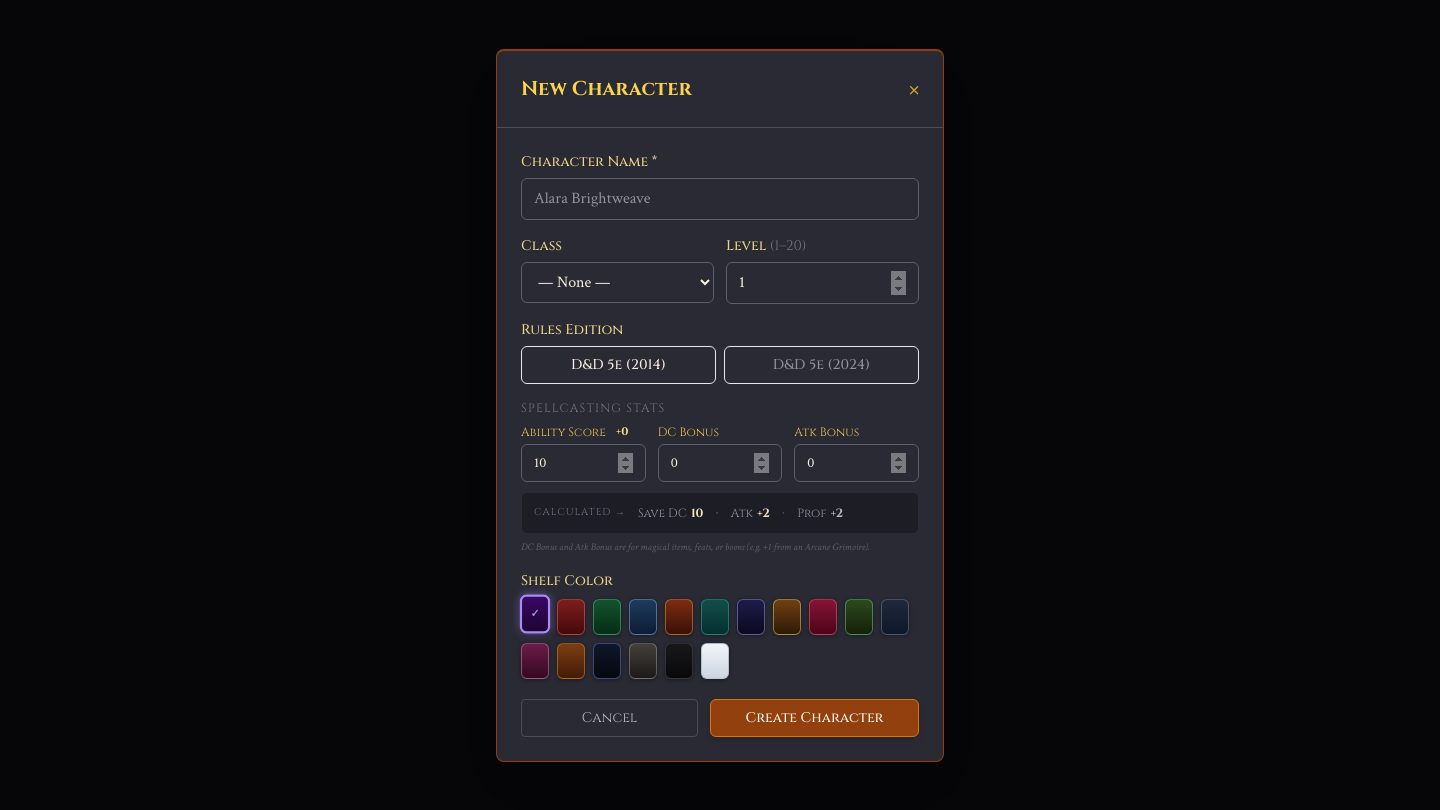
CreateCharacterModal — create mode › hides the Subclass dropdown when switching away from Wizard
Select "Wizard" in the dropdown labelled "Class" at point(618, 282), box [521, 262, 714, 302]
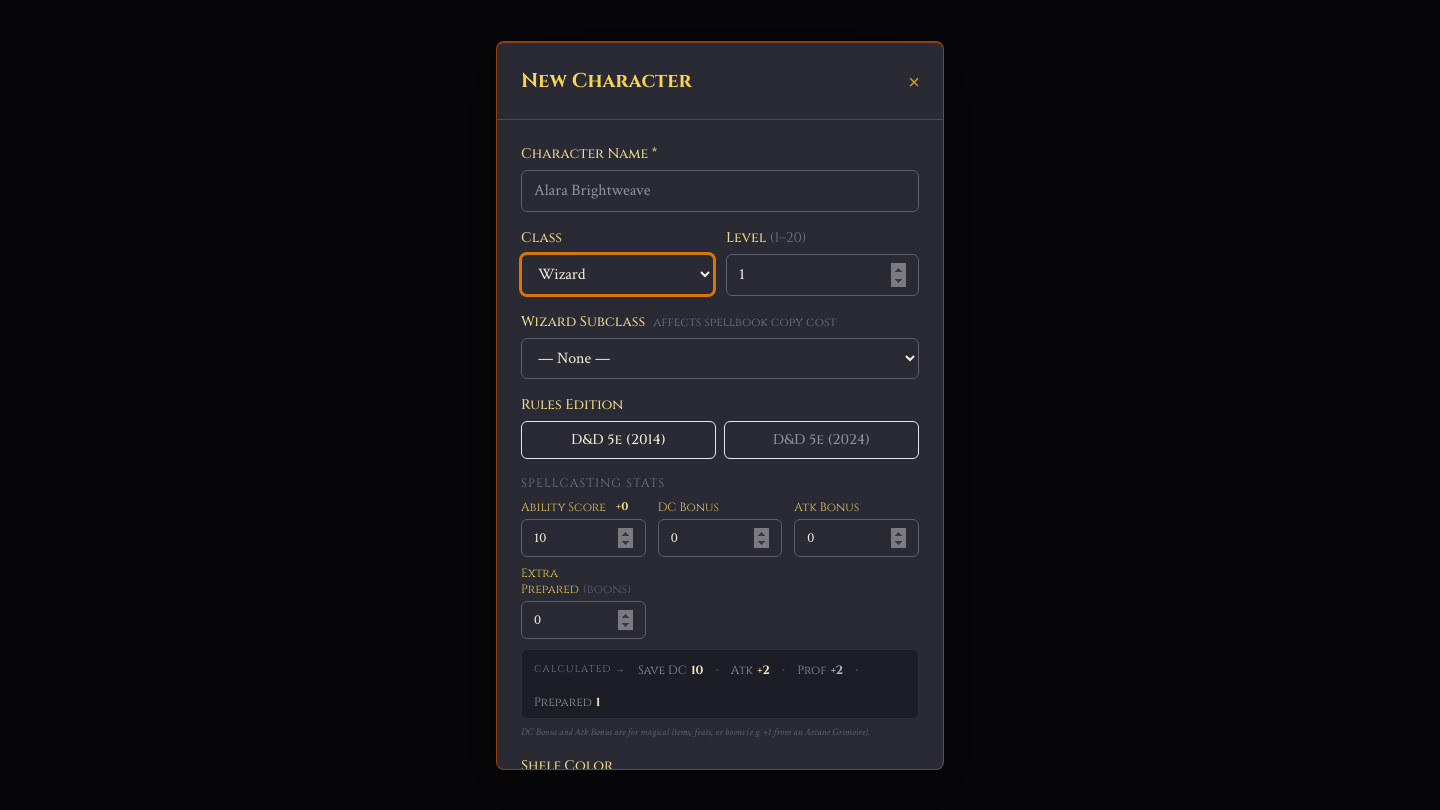
Select "Cleric" in the dropdown labelled "Class" at point(618, 274), box [521, 254, 714, 294]
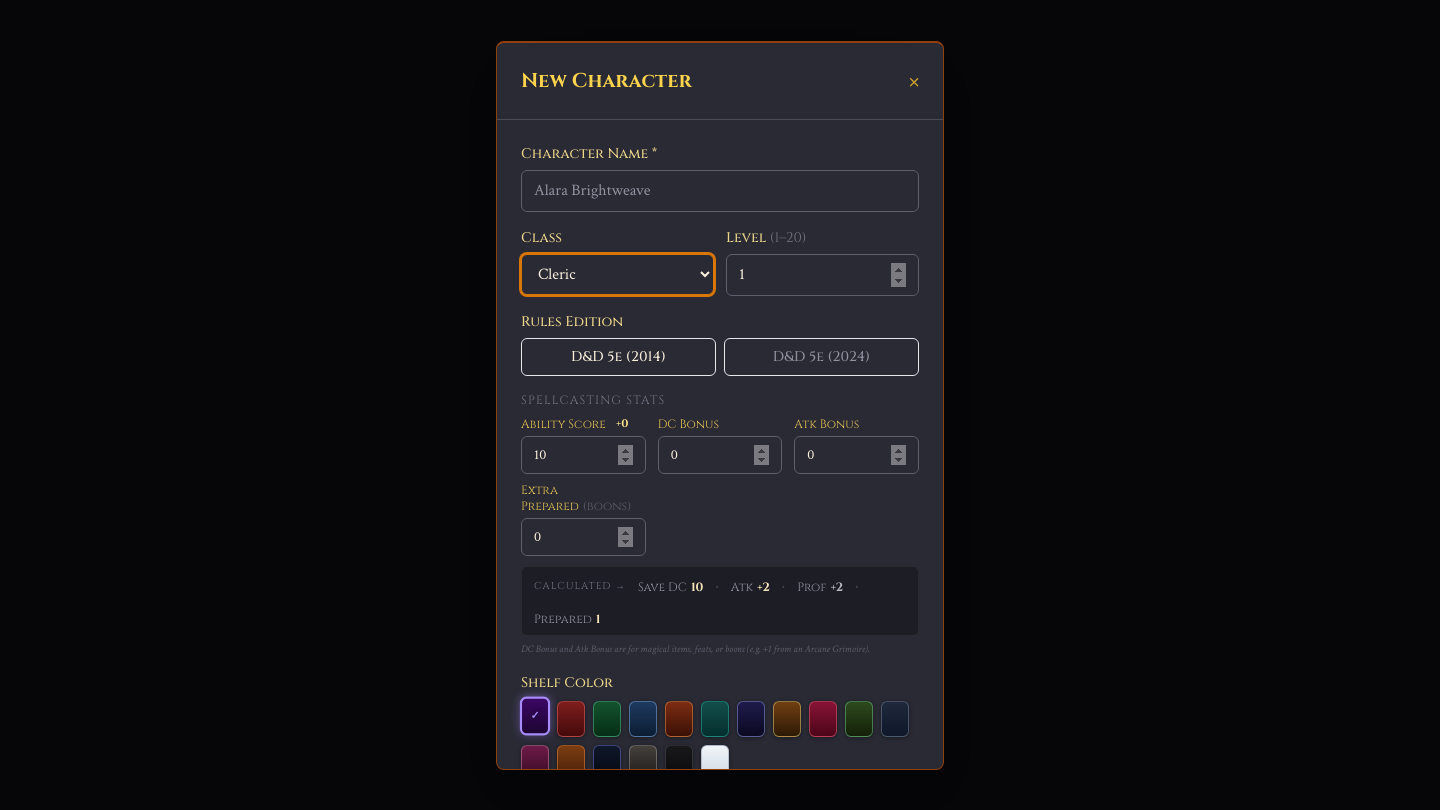
Result: the label "Subclass" is gone
